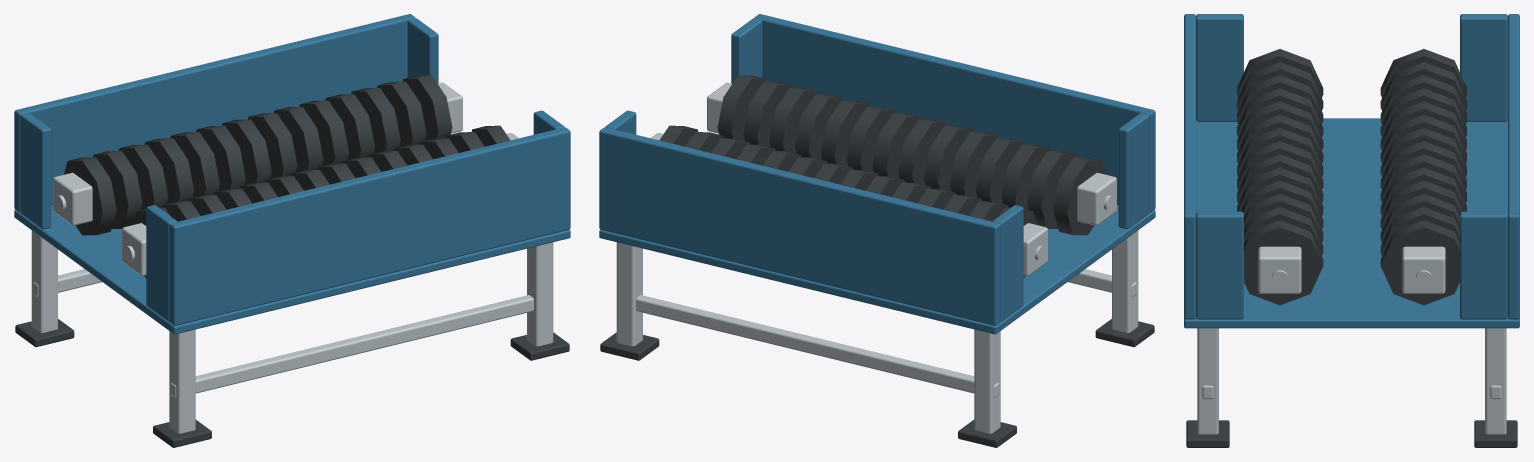
The model's file is recycling-centre-and-material-sorting-twin-shaft-shred-c66137a3__31123.glb.
3 views of the same model, side by side, from view 1: azimuth 30°, elevation 25°; view 2: azimuth 150°, elevation 25°; view 3: azimuth 270°, elevation 25° (orthographic). The views are drawn at different scales.
Parts seen in each view (by area): view 1: twin-shaft-shredder; view 2: twin-shaft-shredder; view 3: twin-shaft-shredder.
Part boxes in pixels (box(x1,y1,x2,y2)): twin-shaft-shredder: box(14, 14, 570, 447); twin-shaft-shredder: box(599, 14, 1155, 447); twin-shaft-shredder: box(1184, 14, 1519, 447).
Size of the model in its own units: 2 by 1.07 by 1.4.
